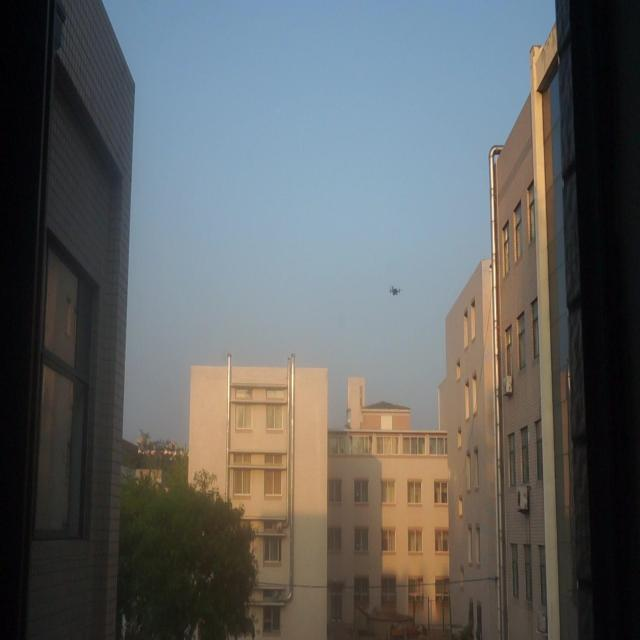drone: (388, 282, 401, 299)
